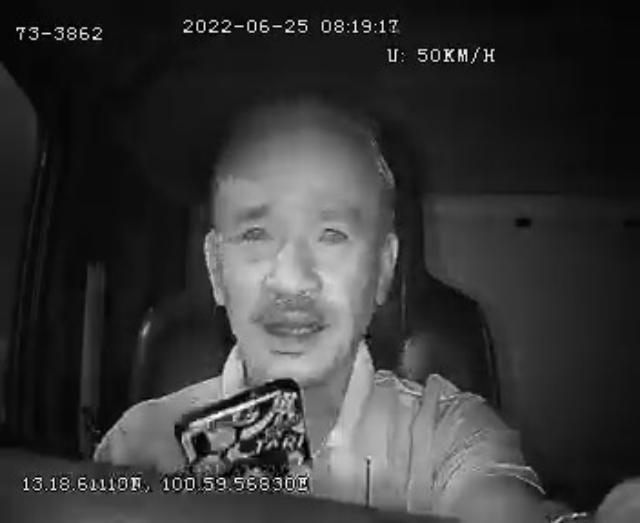PhoneUse: (176, 376, 312, 466)
SafeDriving: (308, 208, 360, 253), (227, 210, 280, 254)
